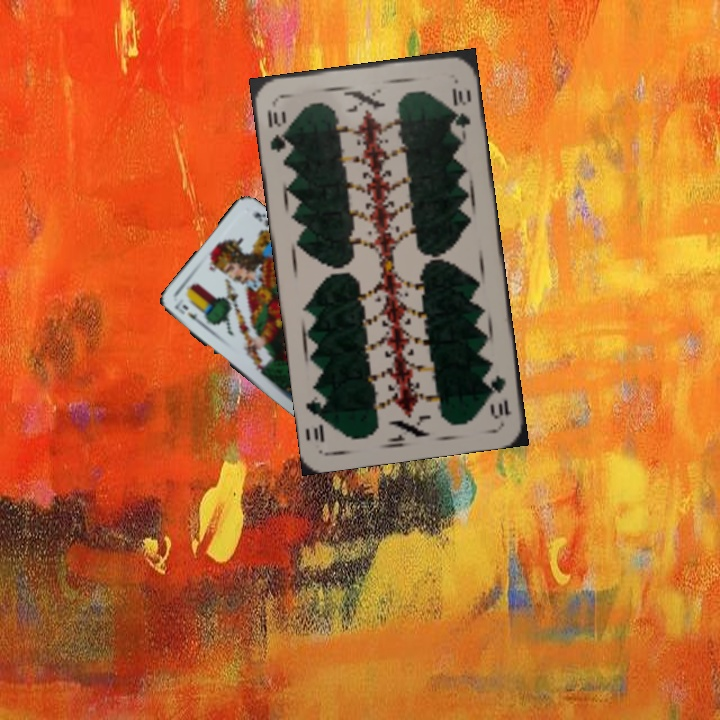EK: (171, 297, 207, 329)
G10: (263, 105, 293, 159), (485, 371, 513, 422)
